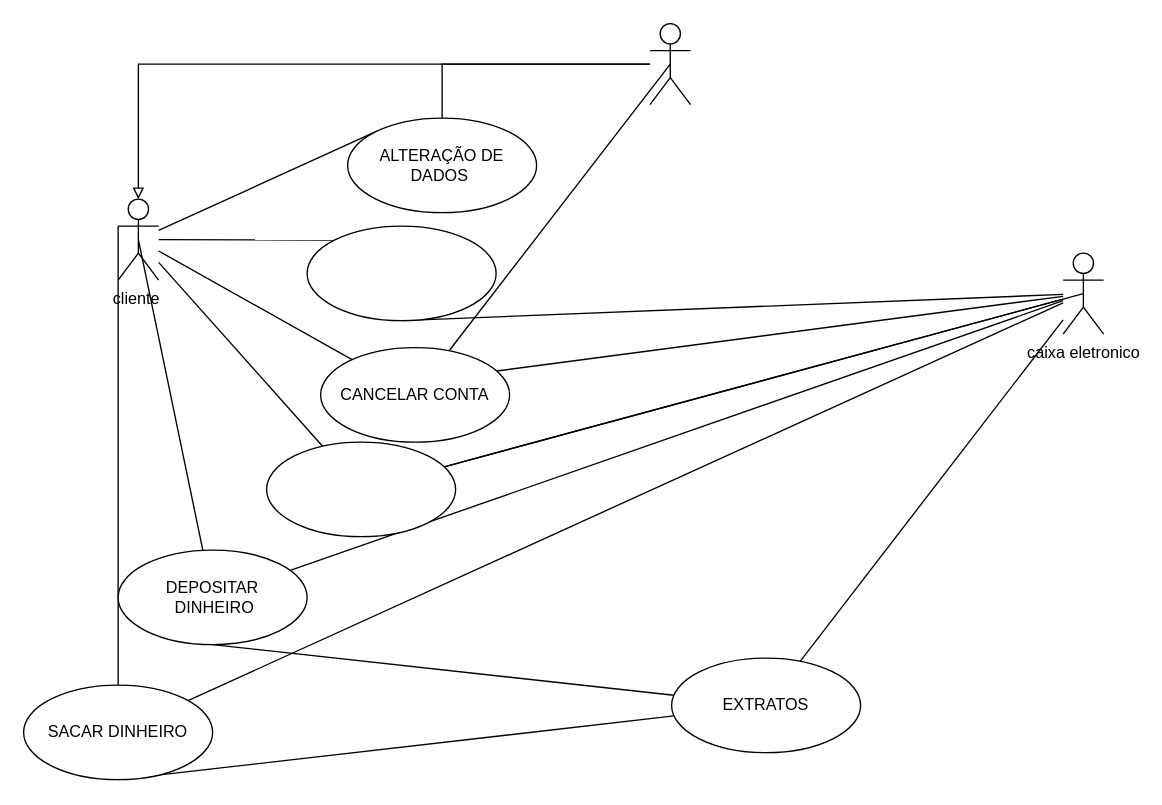
This 1162x805 diagram has some shape labels left out. Each missing label, with the centre of its shape:
"CADASTRO" belongs at point (401, 273).
"funcionario" belongs at point (670, 63).
"TRANSFERIR DINHEIRO" belongs at point (360, 489).
